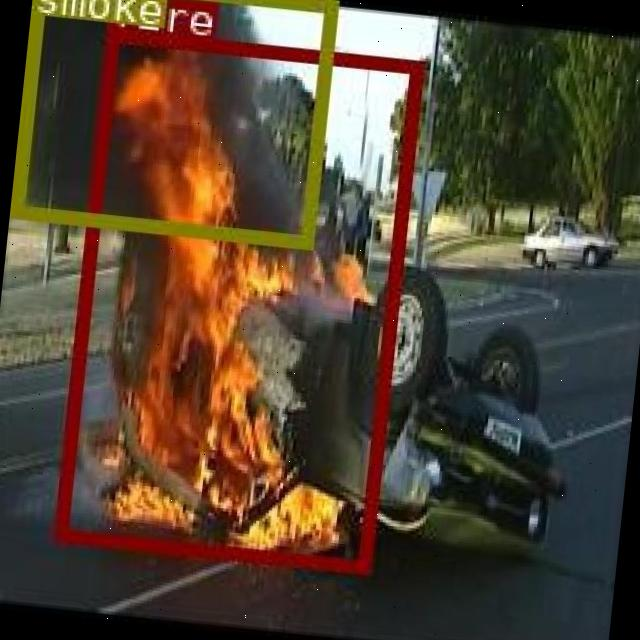fire: (52, 26, 420, 571)
smoke: (9, 0, 333, 244)
